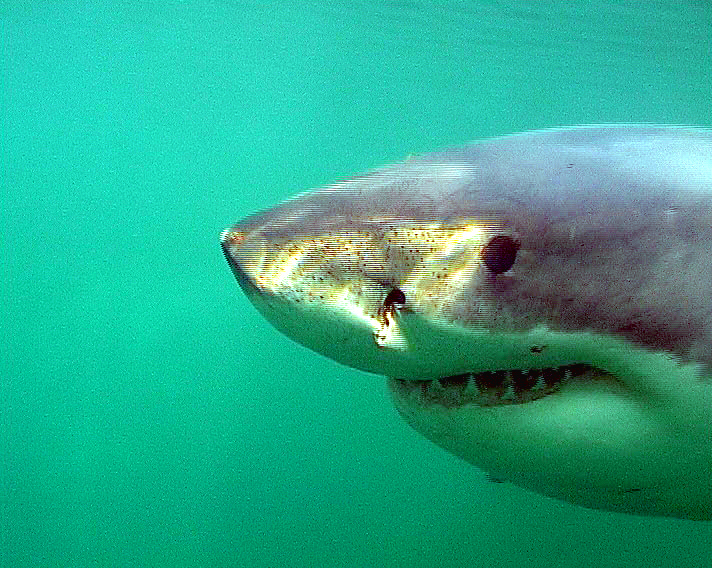Carcharodon_carcharias: (198, 98, 712, 529)
